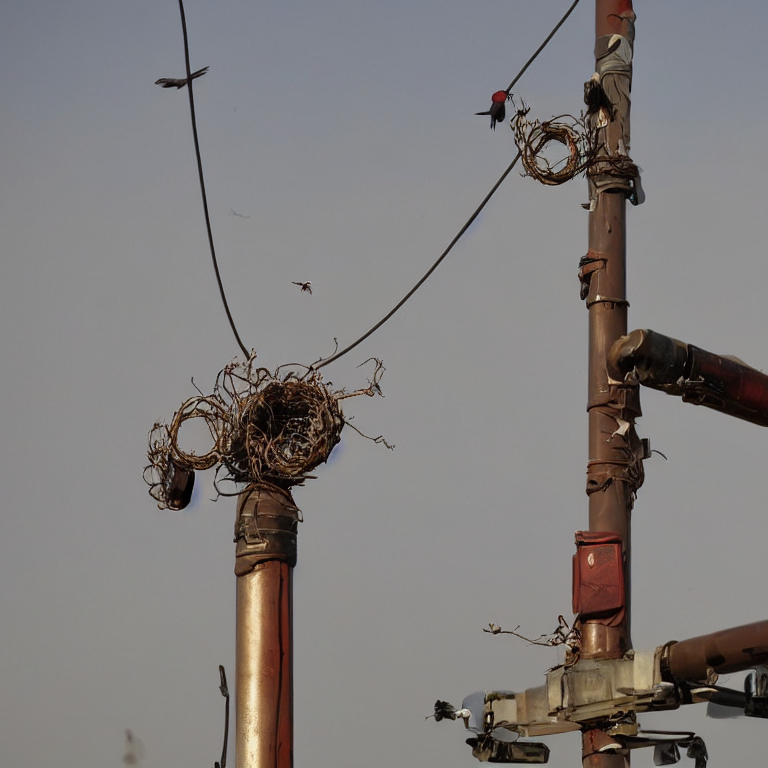nest: (184, 370, 338, 471), (522, 125, 588, 186)
